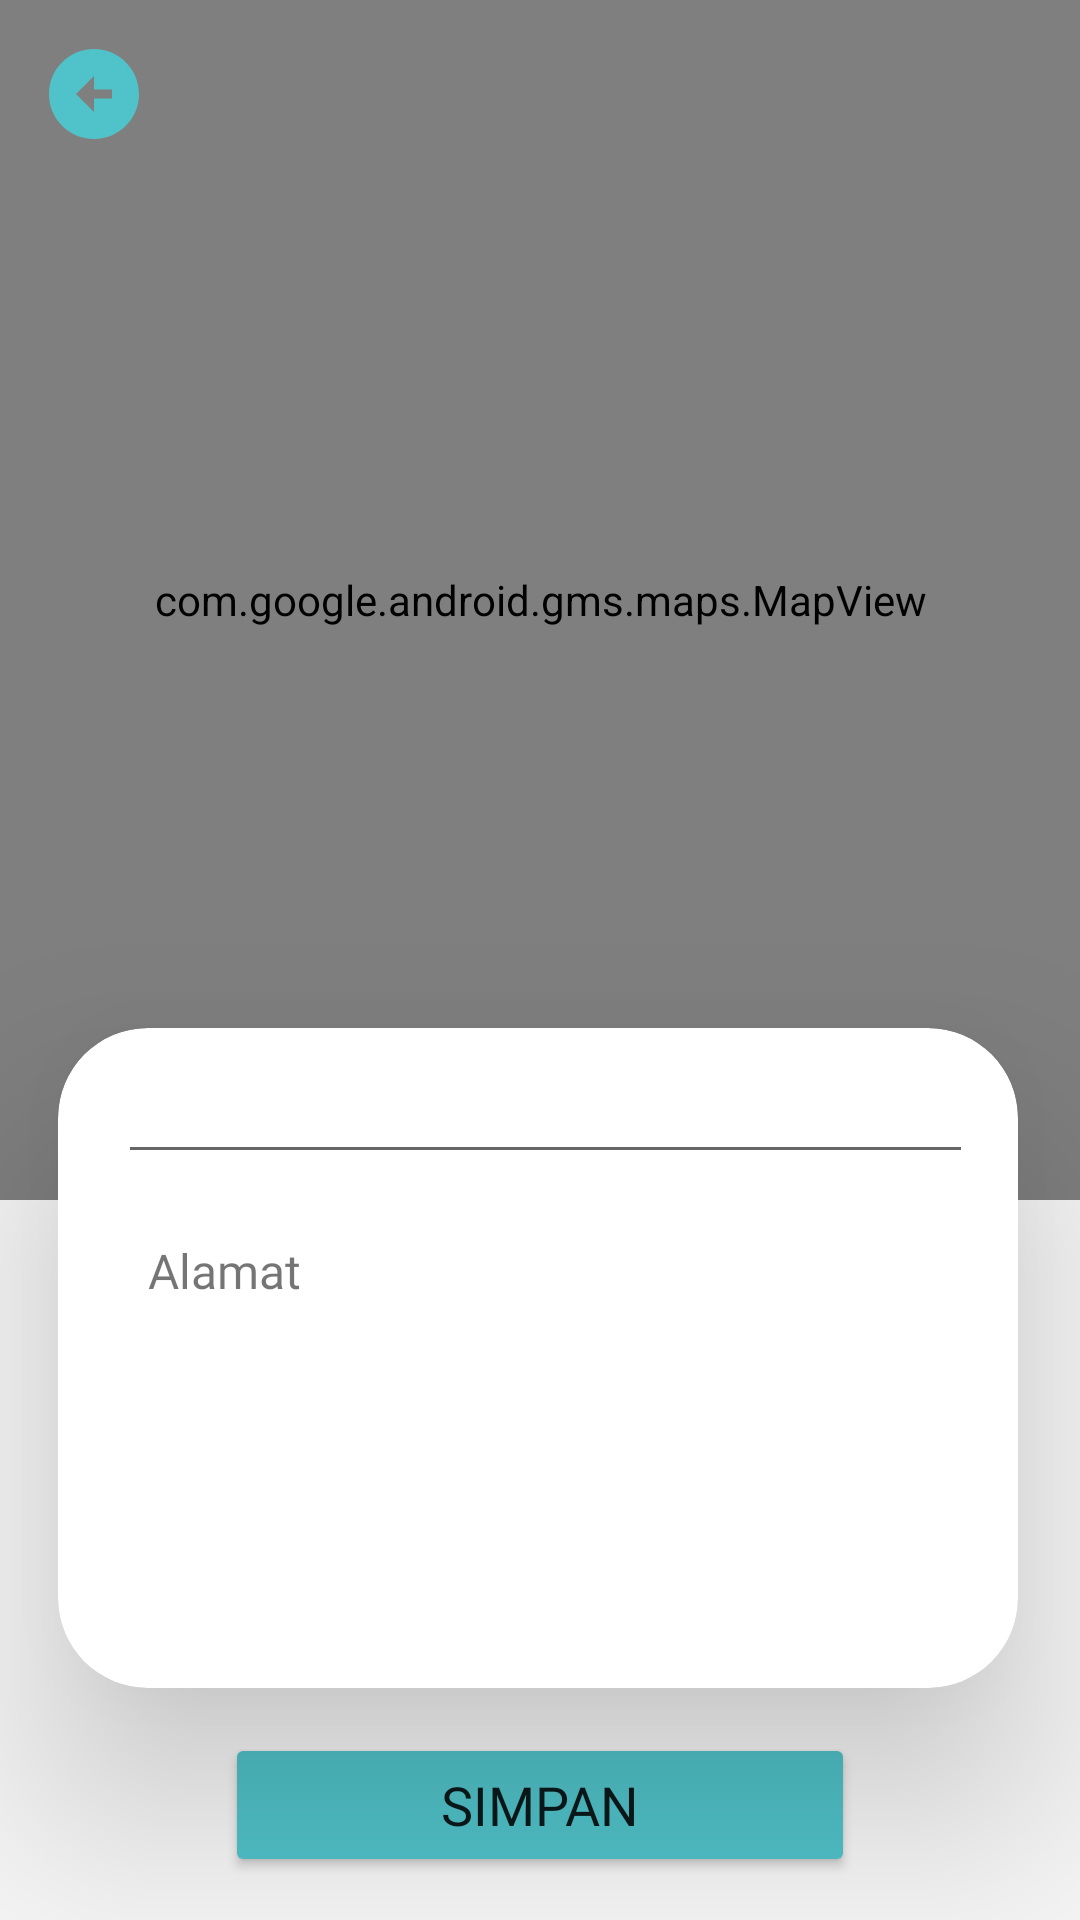

Named icons in this screenshot (1080 × 1920) and their centers, (x=x, y=y):
arrow circle left: (x=94, y=94)
